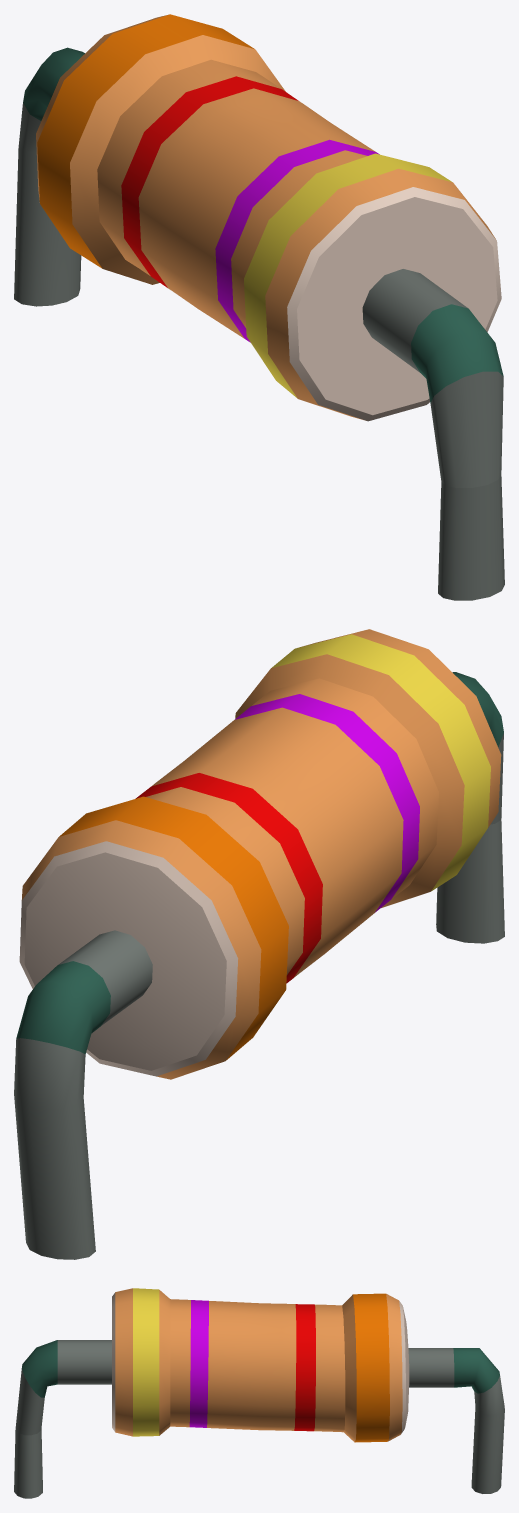
Rendered from resistor_color2.glb.
The picture shows the model from 3 angles, top to bottom: view 1: azimuth 30°, elevation 25°; view 2: azimuth 150°, elevation 25°; view 3: azimuth 270°, elevation 25°; orthographic projection. The views are drawn at different scales.
Parts seen in each view (by area): view 1: Retopo_Icosphere.002; view 2: Retopo_Icosphere.002; view 3: Retopo_Icosphere.002.
Part boxes in pixels (x1=…): Retopo_Icosphere.002: x1=14, y1=14, x2=504, y2=600; Retopo_Icosphere.002: x1=14, y1=629, x2=504, y2=1259; Retopo_Icosphere.002: x1=14, y1=1288, x2=504, y2=1498.
Bounding box in the file's own units: 0.1514 × 0.2173 × 0.497.
